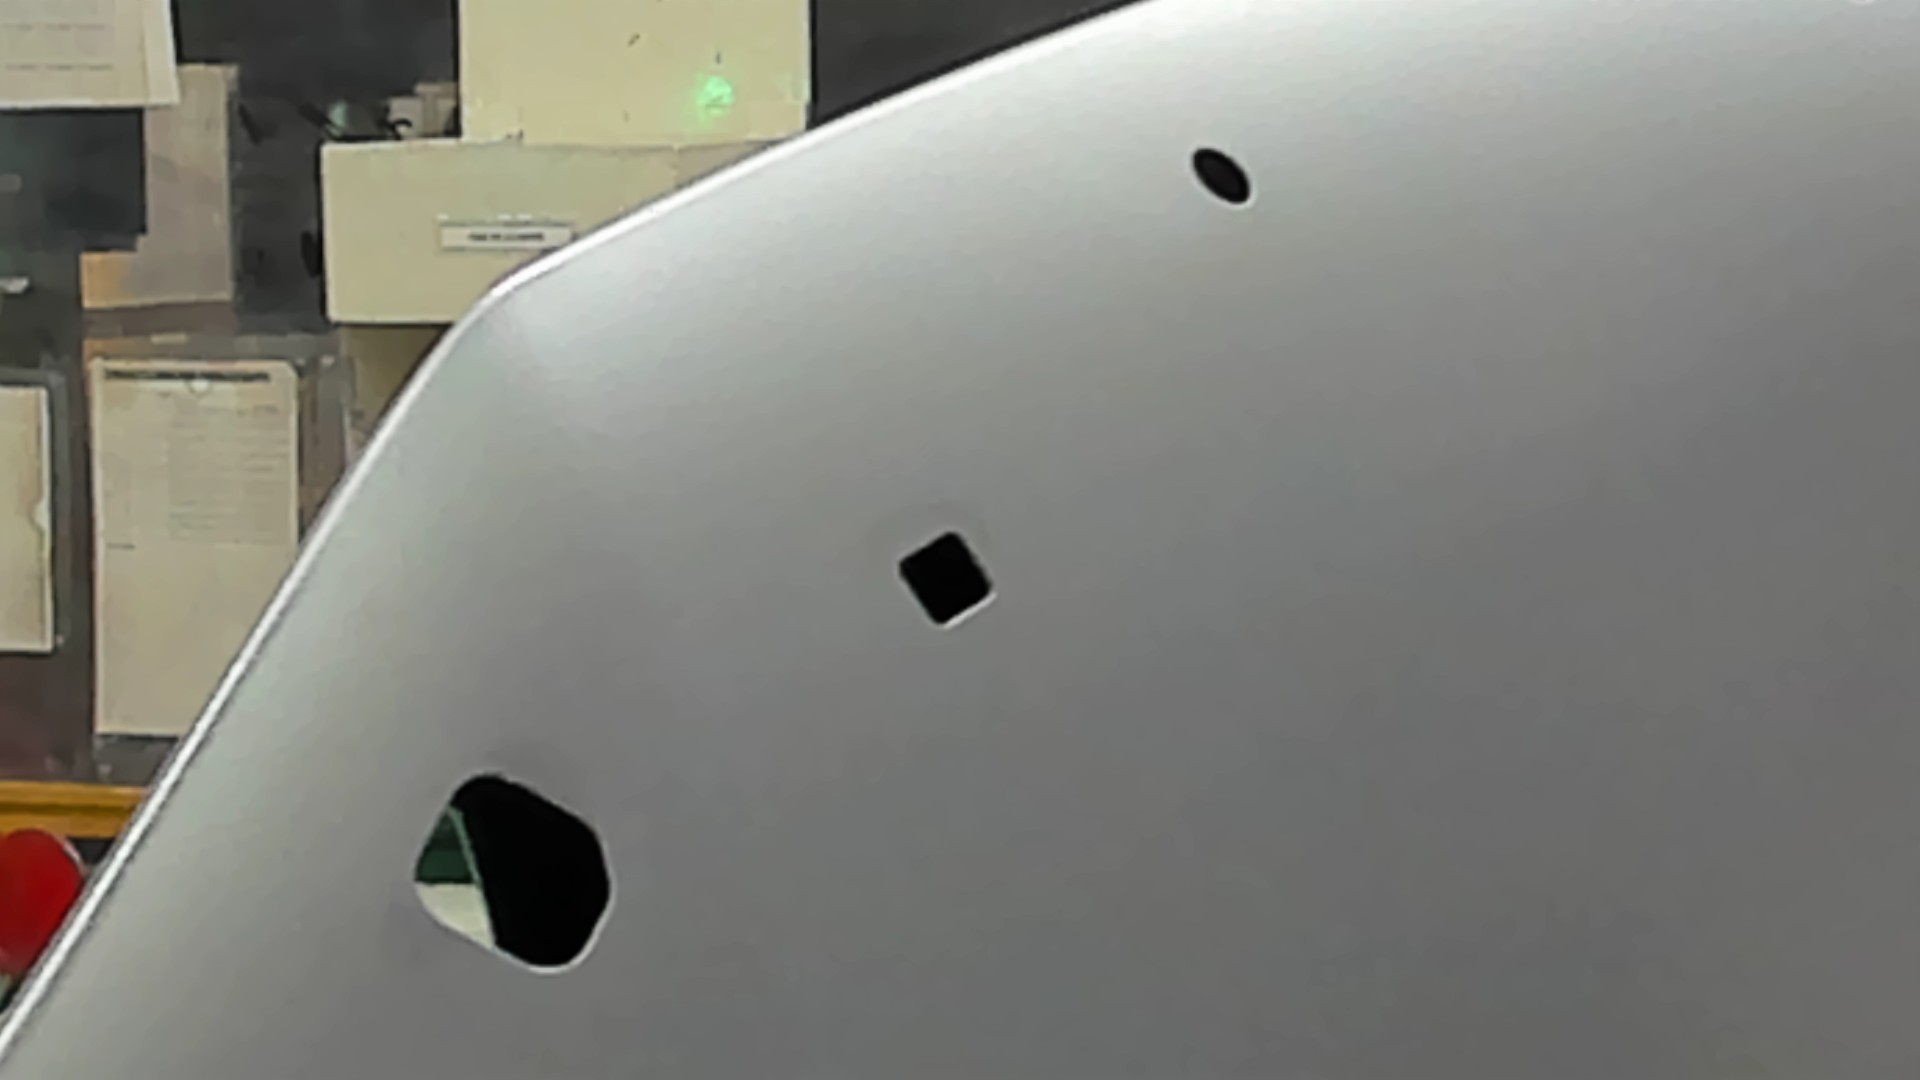chico: (1183, 142, 1266, 219)
grande: (371, 756, 633, 978)
mediano: (878, 518, 1009, 649)
